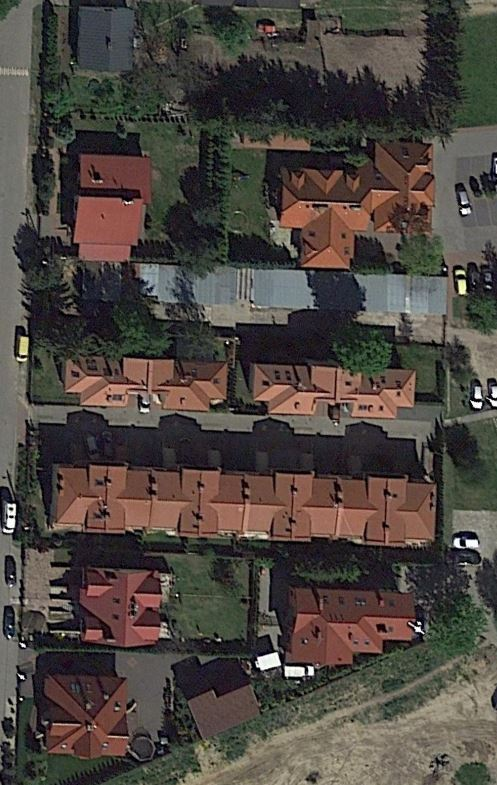family house: (268, 124, 453, 275), (53, 139, 172, 270), (277, 580, 429, 676), (28, 660, 148, 765), (71, 553, 181, 656)
terrace house: (38, 454, 456, 549), (58, 344, 242, 424), (234, 357, 425, 426)
